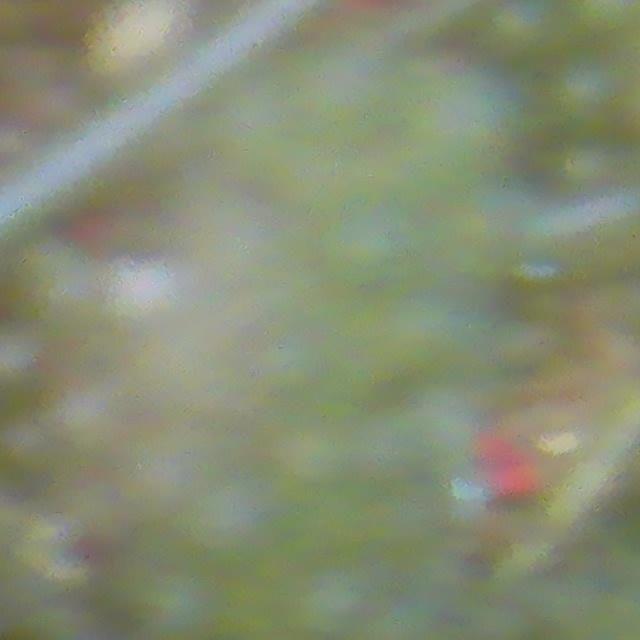SeaGrape: (549, 46, 628, 125), (485, 0, 563, 62)
